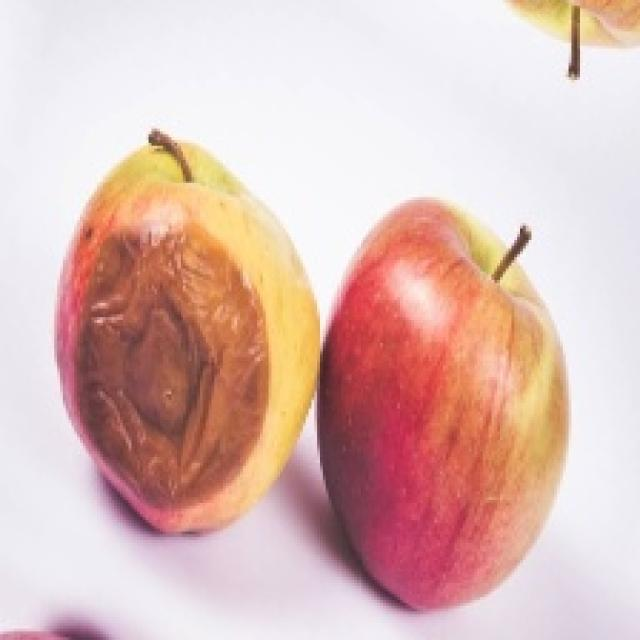rotten_apple: (57, 144, 318, 529)
